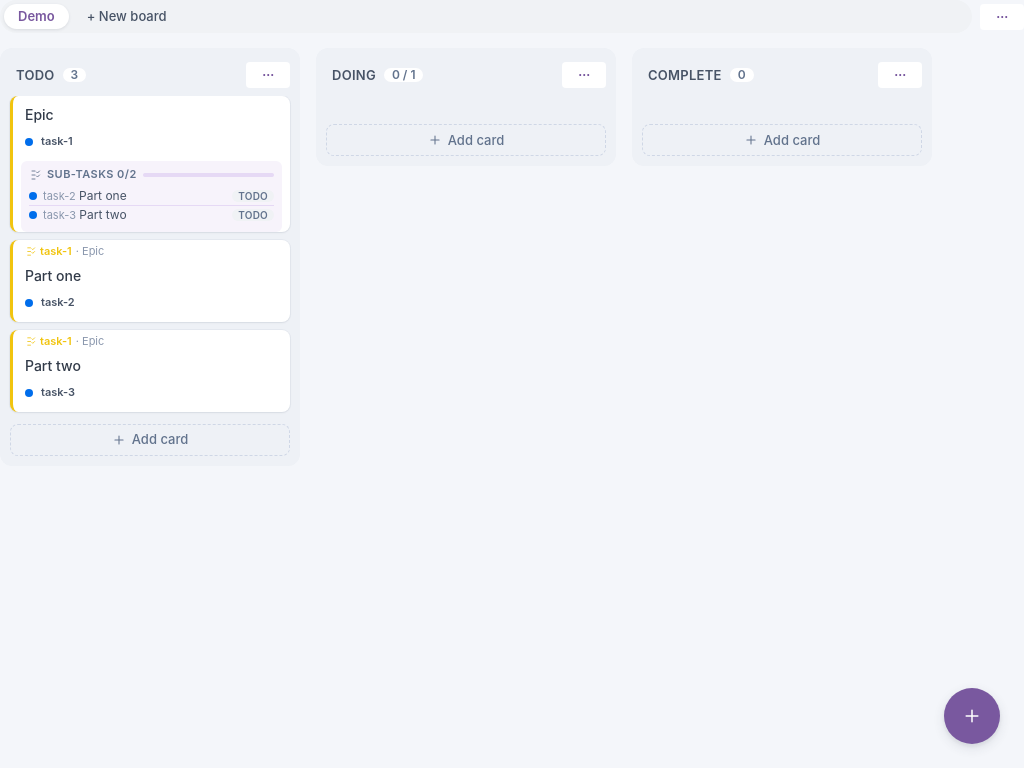
KanbanBoard › deleting a parent offers to delete its sub-tasks too
Click the list item with aria-label "Epic (medium)" at (150, 164), box x1=10 y1=96 x2=290 y2=232
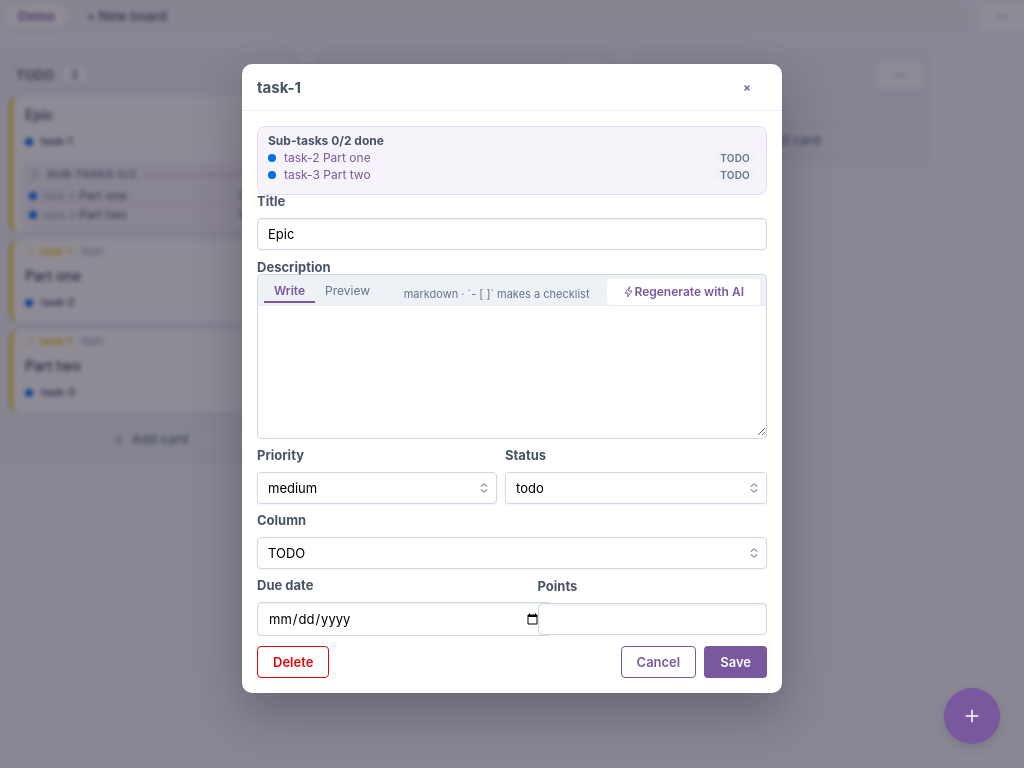
Click the button "Delete" at (293, 662), box x1=257 y1=646 x2=329 y2=678
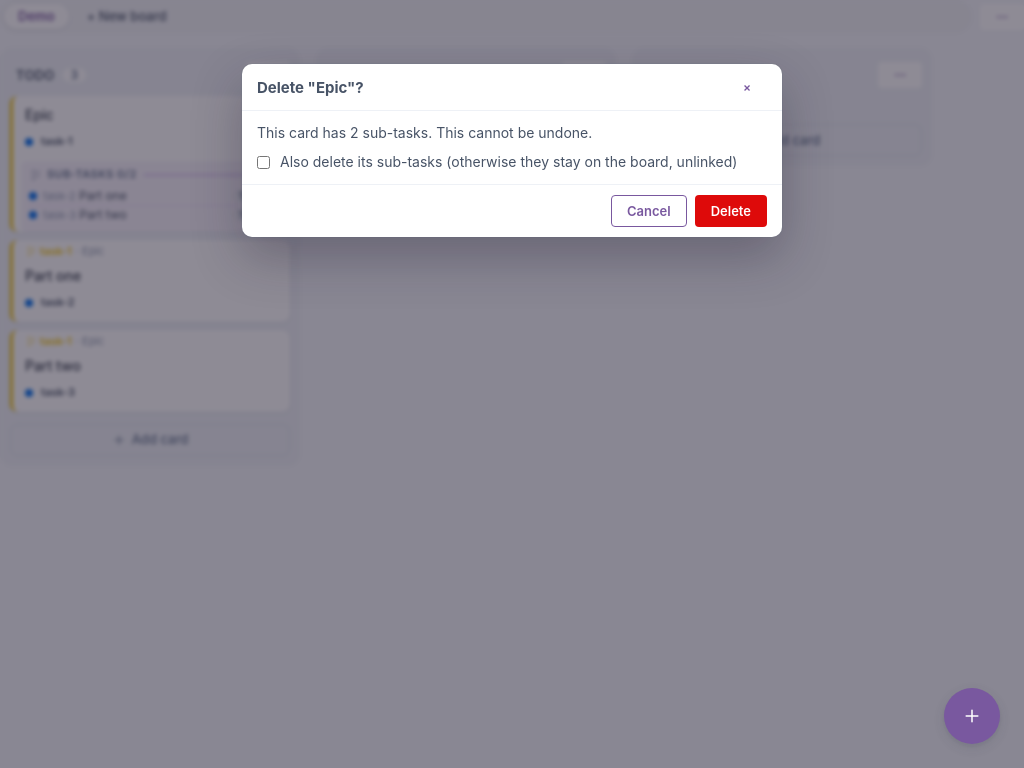
Expected: the text "This card has 2 sub-tasks. This cannot be undone." is shown, x1=257 y1=124 x2=592 y2=141
Click the checkbox at (264, 162), box x1=257 y1=156 x2=270 y2=168
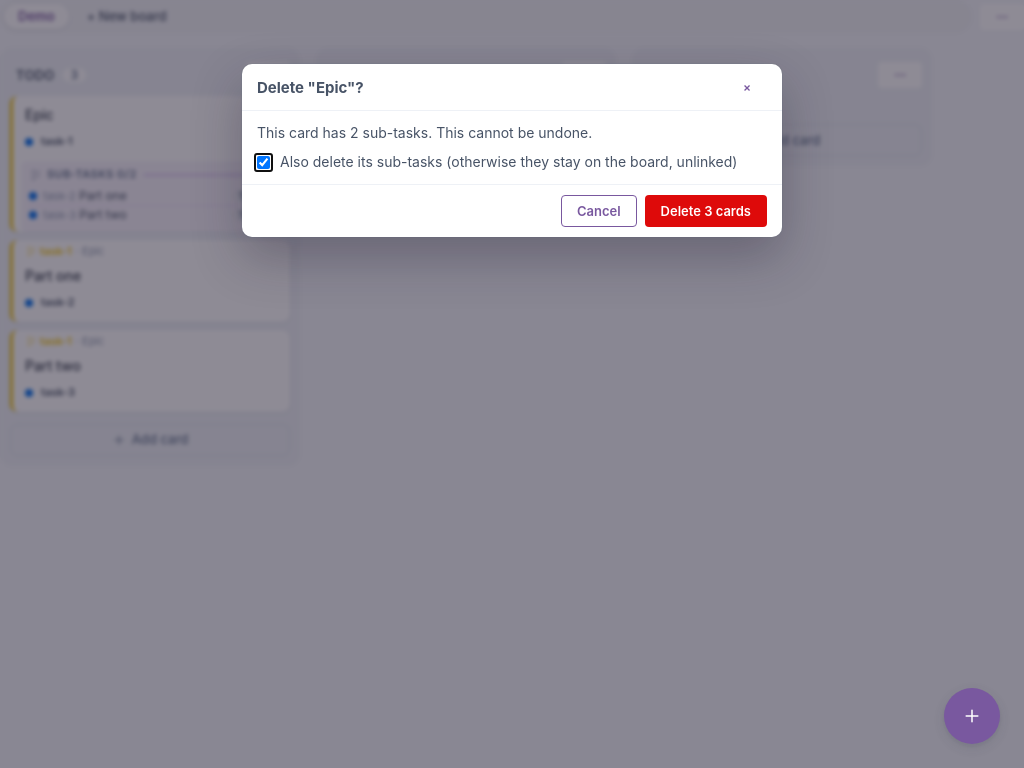
Click the button "Delete 3 cards" at (706, 211), box x1=645 y1=195 x2=767 y2=227
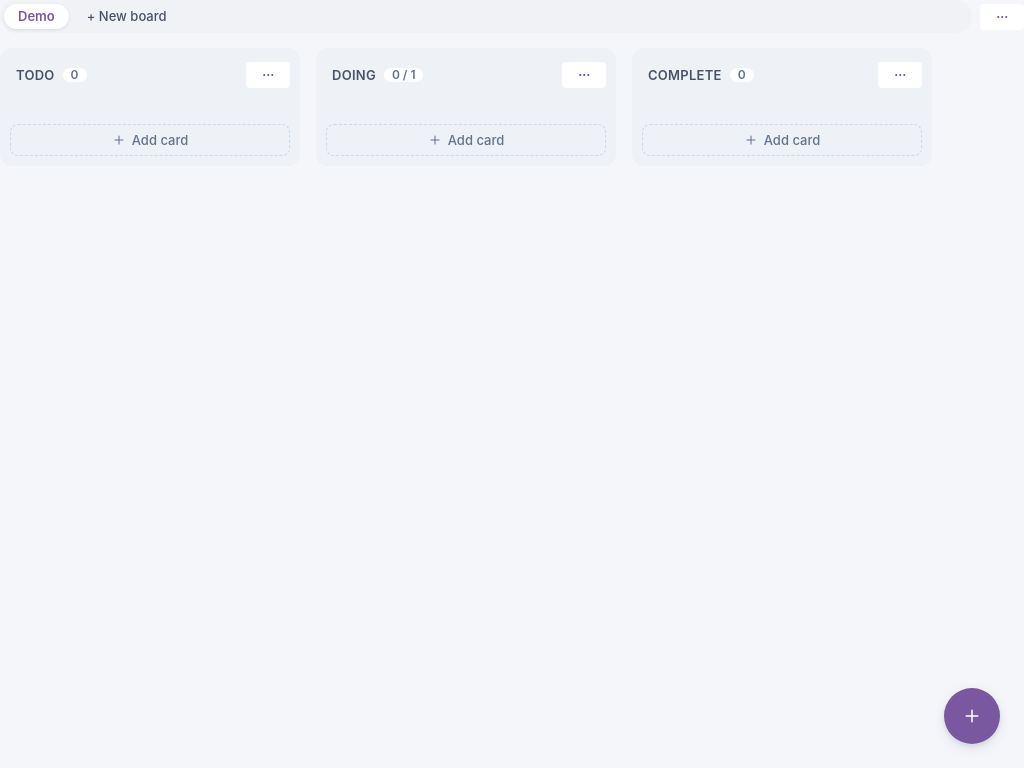
Expected: the text "Epic" is gone
